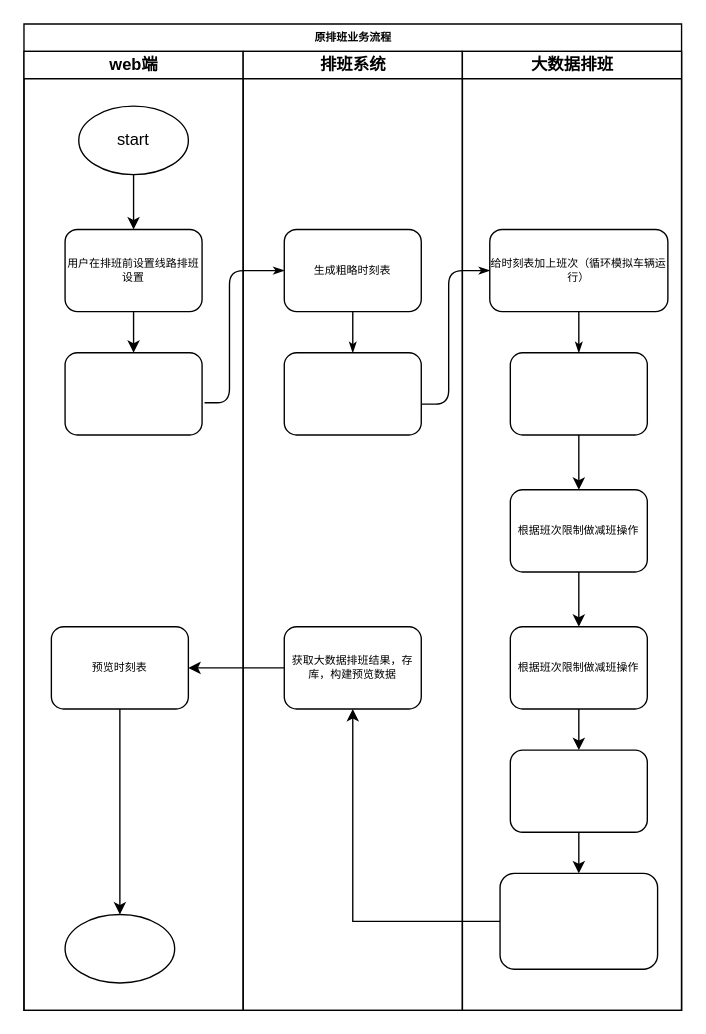
This 706x1034 diagram has some shape labels left out. The centre of each missing label's shape, as x and y in pixels:
"end" goes at pixel 119 948.
"根据方向和发车时间重排趟次号" goes at pixel 578 393.
"根据线路设置固定首末趟" goes at pixel 578 790.
"用户输入发车间隔以及开始结束时间" goes at pixel 133 393.
"计算原时间间隔与现时间间隔计算倍率，均匀固定首末班后产生的间隔查" goes at pixel 578 920.
"设置传参，调用大数据接口排班" goes at pixel 352 393.
